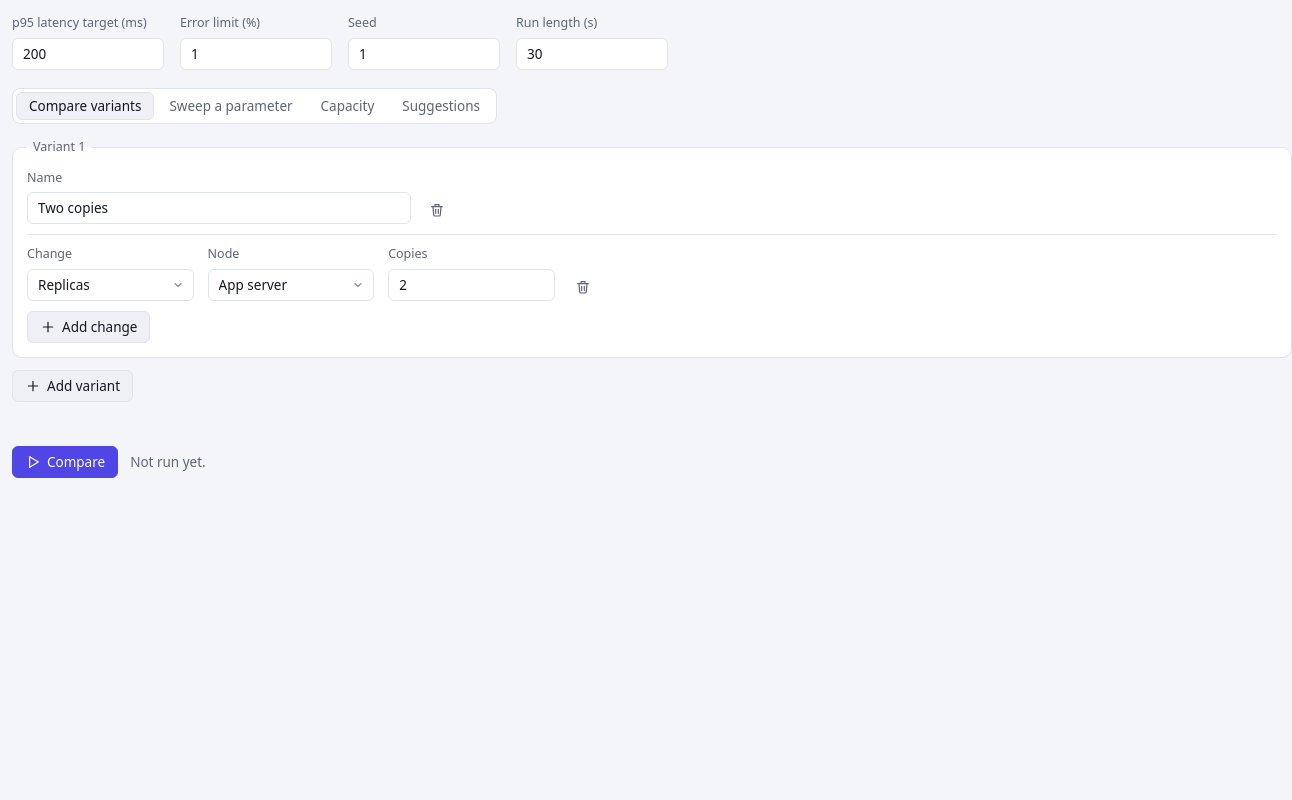
Scenario: WhatIfTab › compares variants with the baseline and colours the changes
Click the button "Compare". click: (65, 462)
box: [12, 446, 118, 478]
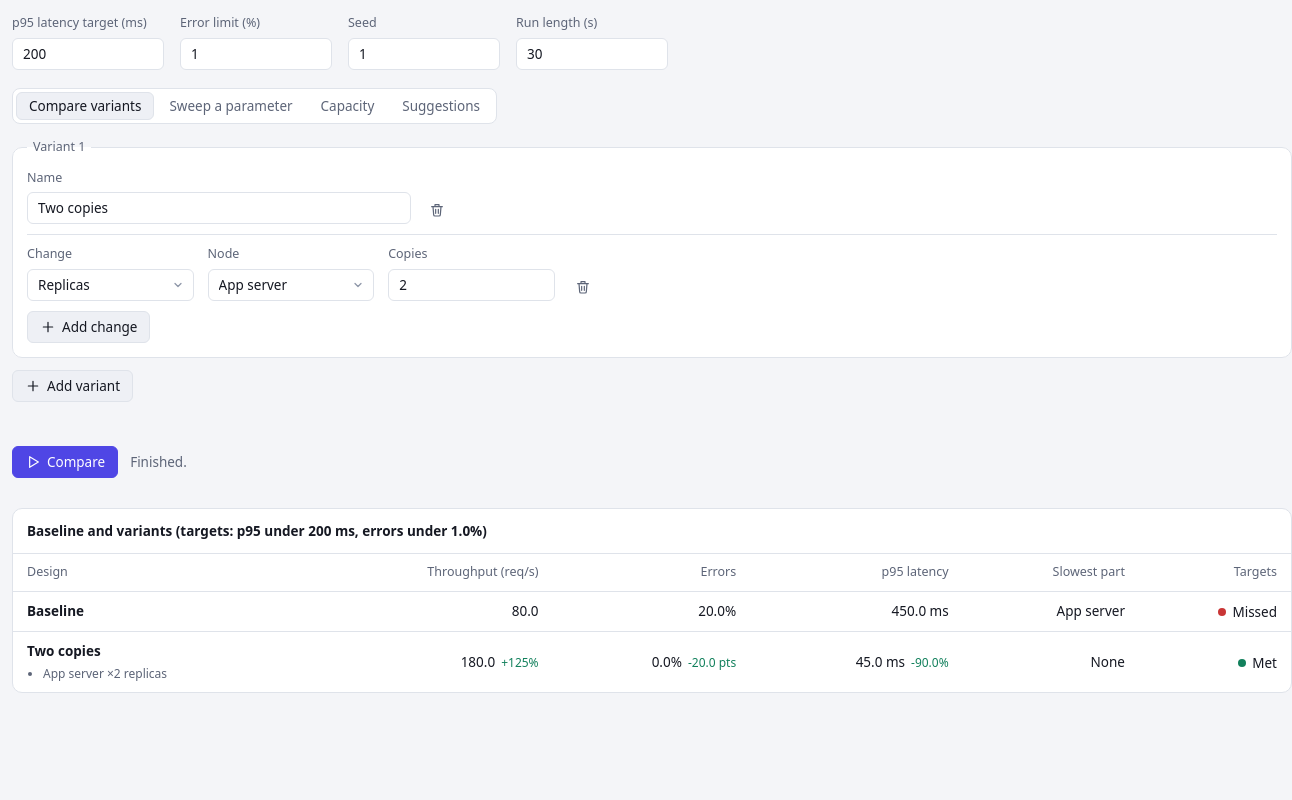
Expected: the column heading "Two copies" is shown, [27, 642, 101, 660]
Expected: the text "Missed" is shown, [1218, 602, 1277, 622]
Expected: the text "Met" is shown, [1238, 653, 1277, 673]
